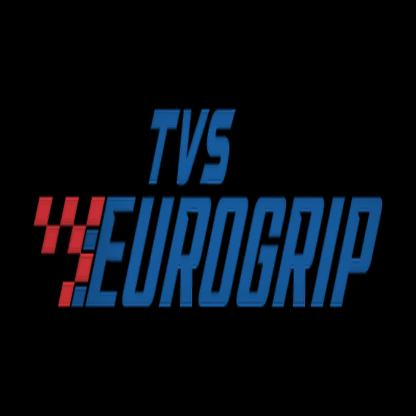TVS Eurogrip: (35, 112, 385, 318)
